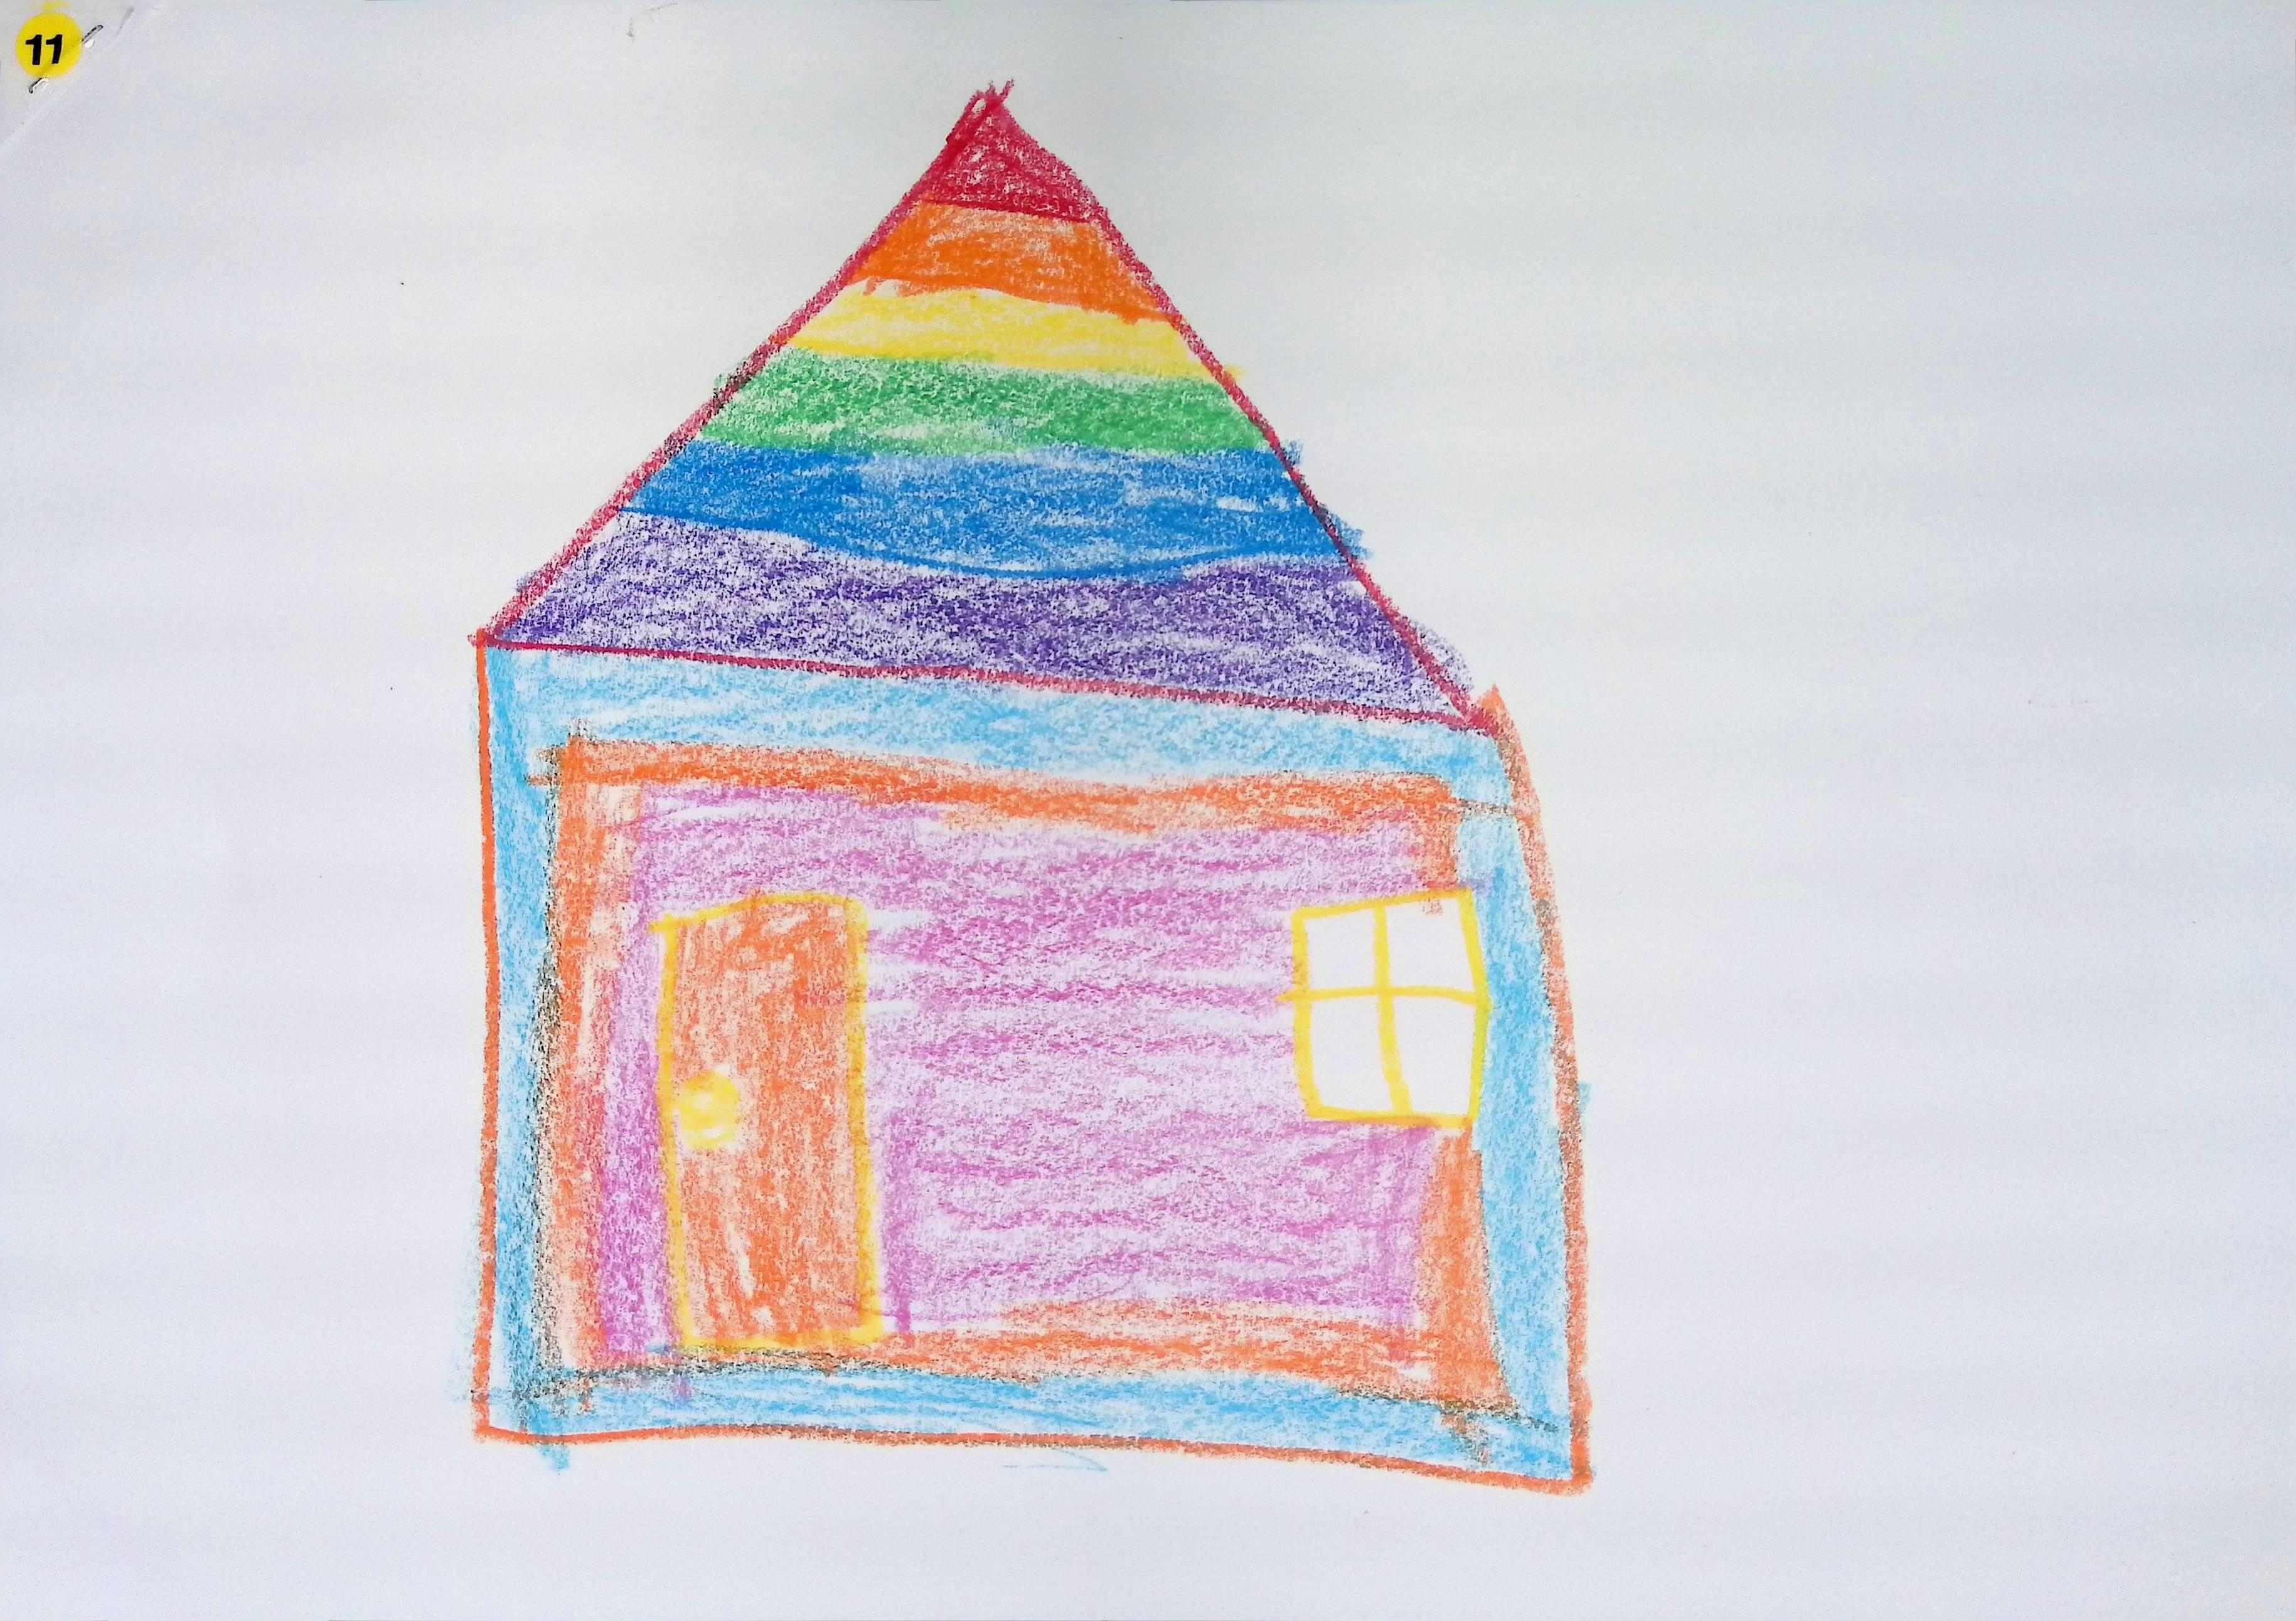door: (654, 895, 881, 1349)
house: (472, 84, 1589, 1488)
roof: (488, 86, 1473, 721)
wall: (472, 640, 1589, 1489)
window: (1293, 888, 1489, 1128)
